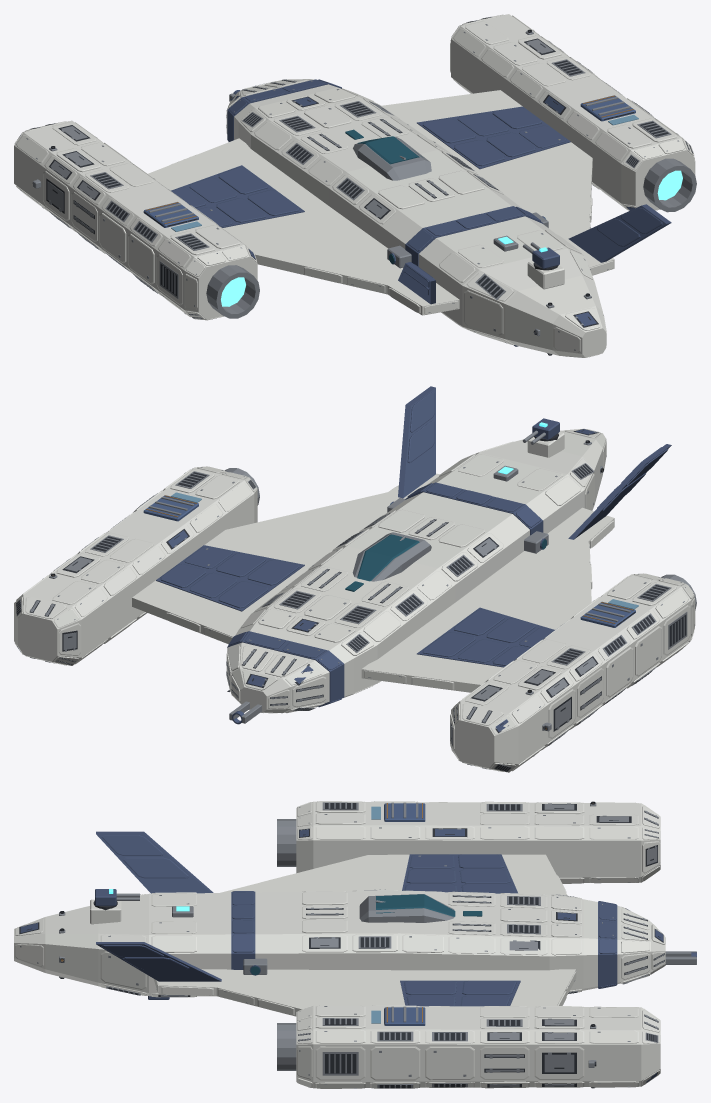
Rendered from interceptor_t3.glb.
3 views of the same model, one above another, from view 1: azimuth 30°, elevation 25°; view 2: azimuth 150°, elevation 25°; view 3: azimuth 270°, elevation 25° (orthographic). The views are drawn at different scales.
Visible parts, largest first — view 1: FleetHull; view 2: FleetHull; view 3: FleetHull.
Boxes of the visible parts, bbox=[...] form: FleetHull: bbox=[14, 14, 696, 357]; FleetHull: bbox=[14, 386, 696, 772]; FleetHull: bbox=[14, 801, 696, 1088].
Size of the model in its own units: 23.63 by 5.26 by 28.3.
